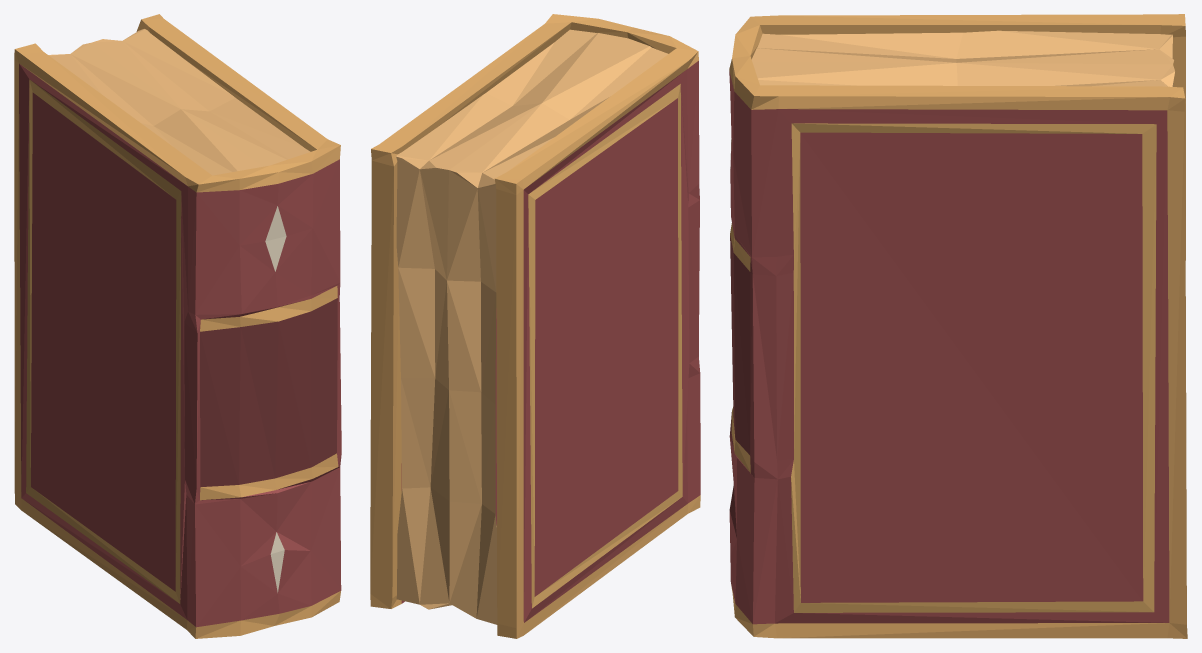
File: SFHW_Book_007.fbx
3 views of the same model, side by side, from view 1: azimuth 30°, elevation 25°; view 2: azimuth 150°, elevation 25°; view 3: azimuth 270°, elevation 25° (orthographic). The views are drawn at different scales.
Visible parts, largest first — view 1: SFHW_Book_007; view 2: SFHW_Book_007; view 3: SFHW_Book_007.
Part boxes in pixels (<box>): SFHW_Book_007: <box>14,14,341,638</box>; SFHW_Book_007: <box>370,14,700,638</box>; SFHW_Book_007: <box>729,14,1187,638</box>.
Bounding box in the file's own units: 10.63 × 31.55 × 24.06.
